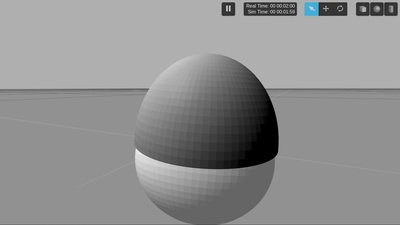mira_robot: (135, 54, 279, 225)
